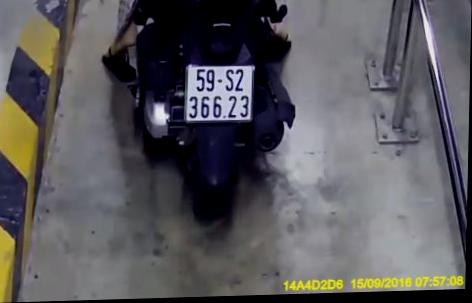License_Plate: (178, 59, 260, 130)
